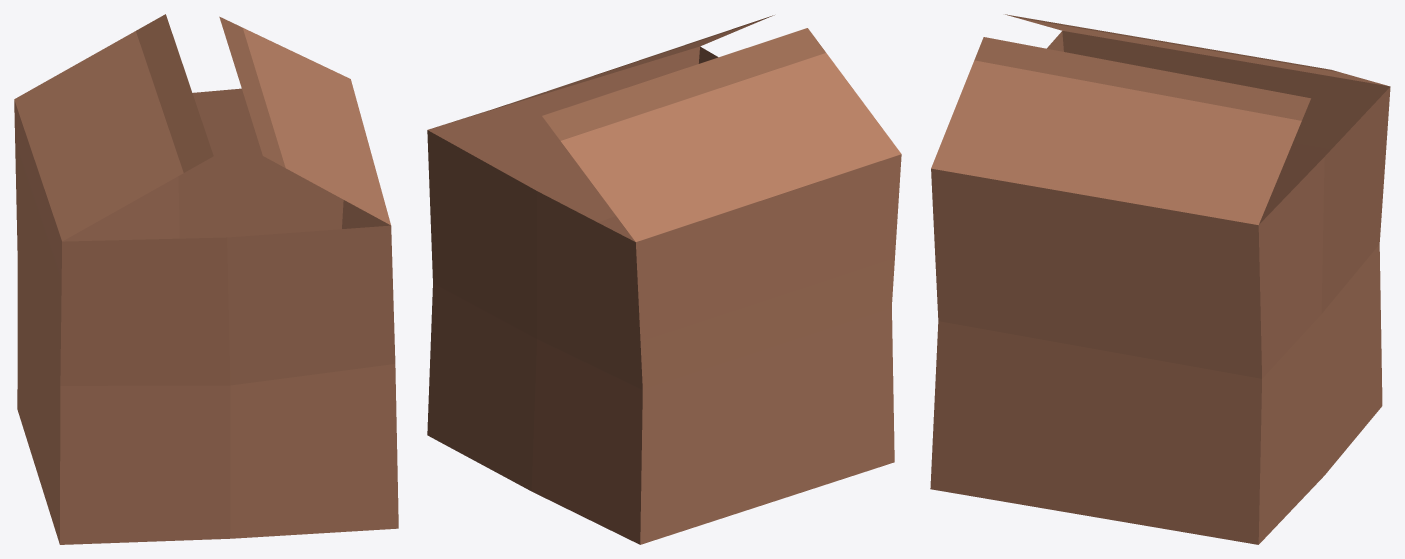
The picture shows the model from 3 angles, left to right: view 1: azimuth 30°, elevation 25°; view 2: azimuth 150°, elevation 25°; view 3: azimuth 270°, elevation 25°; orthographic projection. The views are drawn at different scales.
Visible parts, largest first — view 1: Shelf.004; view 2: Shelf.004; view 3: Shelf.004.
Part boxes in pixels (box(x1,y1,x2,y2)): Shelf.004: box(14, 14, 398, 544); Shelf.004: box(427, 15, 901, 544); Shelf.004: box(930, 14, 1390, 544).
Size of the model in its own units: 122 by 117 by 122.
